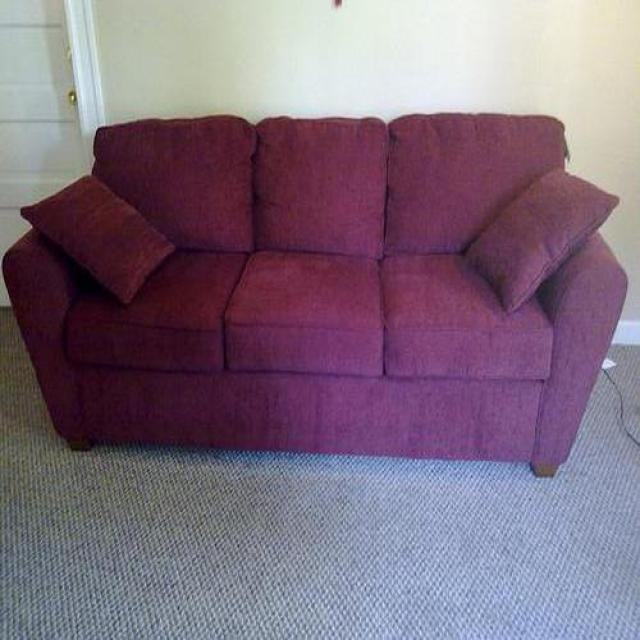sofa: (0, 114, 626, 479)
